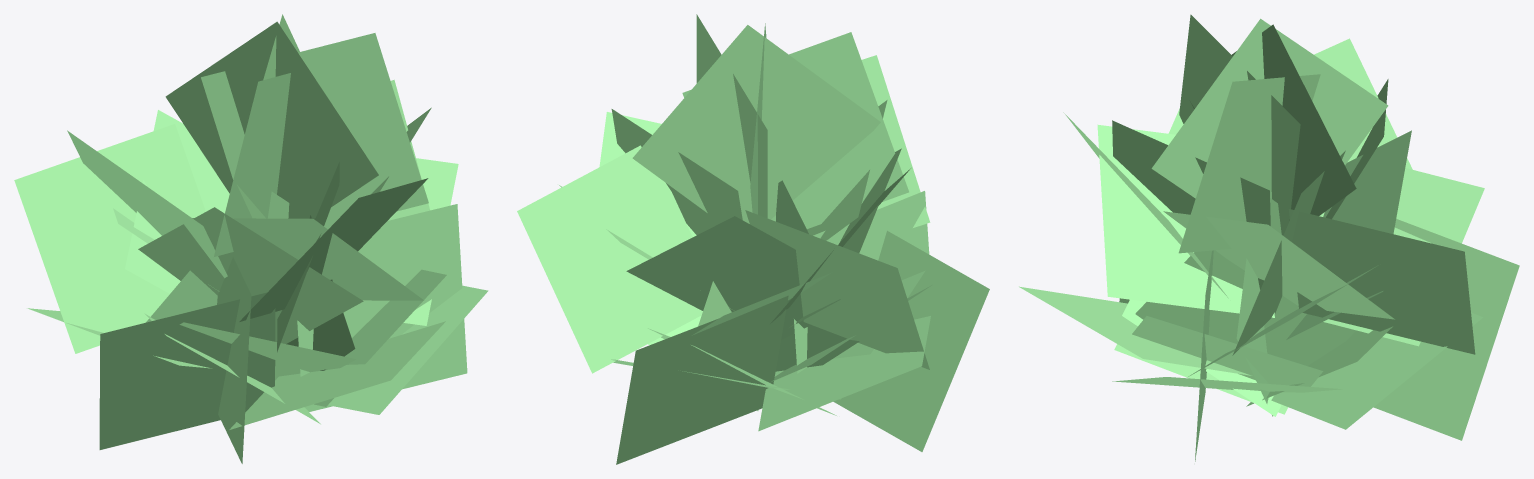
The model's file is Bush.fbx.
3 renders of one model, left to right at view 1: azimuth 30°, elevation 25°; view 2: azimuth 150°, elevation 25°; view 3: azimuth 270°, elevation 25°, orthographic. The views are drawn at different scales.
Visible parts, largest first — view 1: Bush; view 2: Bush; view 3: Bush.
Part boxes in pixels (x1,y1,x2,y2): Bush: (14, 14, 488, 463); Bush: (517, 14, 989, 464); Bush: (1019, 14, 1519, 461).
Size of the model in its own units: 174 by 162 by 186.
